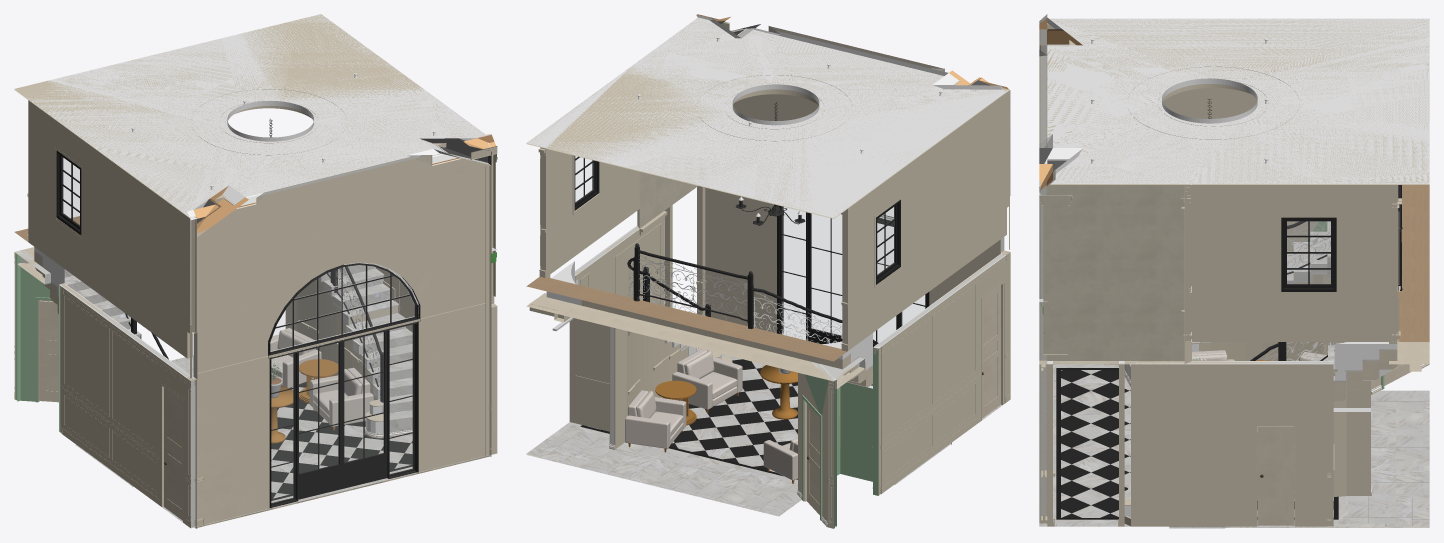
Rendered from entry-f684c350469e.glb.
3 renders of one model, left to right at view 1: azimuth 30°, elevation 25°; view 2: azimuth 150°, elevation 25°; view 3: azimuth 270°, elevation 25°, orthographic. The views are drawn at different scales.
Visible parts, largest first — view 1: entry-9d91b47435c6fb33, entry-4edf3a9420c06709, entry-e8793759323e04f0, entry-698abdfdc6fb970d, entry-9ca48b730e5de4b2, entry-746250f96522f643, entry-85f0fd939e0fcc78, entry-8d5f500af8e4c699, entry-785988ccf932ddd5, entry-969fb0f33943ba89, entry-c4ac463b6a960119, entry-a5eabba2ad6474eb (+18 smaller); view 2: entry-9d91b47435c6fb33, entry-746250f96522f643, entry-e8793759323e04f0, entry-85f0fd939e0fcc78, entry-2575515a05775d9e, entry-d5a4a1b5d3594c04, entry-698abdfdc6fb970d, entry-ba376bd68a22f7f3, entry-c4ac463b6a960119, entry-c51ecd664a3b22a3, entry-8b5649904563319a, entry-6a051330000fbca1 (+28 smaller); view 3: entry-9d91b47435c6fb33, entry-6a051330000fbca1, entry-c51ecd664a3b22a3, entry-e8793759323e04f0, entry-62353aa10fc57f23, entry-c4ac463b6a960119, entry-ba376bd68a22f7f3, entry-2575515a05775d9e, entry-20932135983111ad, entry-489e9ad801b4b62e, entry-80d276f58a4dc5cb, entry-224035c89a69c041 (+19 smaller).
Part boxes in pixels (x1,y1,x2,y2): entry-9d91b47435c6fb33: [14, 14, 485, 218]; entry-4edf3a9420c06709: [195, 150, 491, 372]; entry-e8793759323e04f0: [14, 14, 483, 217]; entry-698abdfdc6fb970d: [269, 322, 418, 508]; entry-9ca48b730e5de4b2: [195, 302, 490, 526]; entry-746250f96522f643: [28, 100, 192, 358]; entry-85f0fd939e0fcc78: [60, 283, 192, 525]; entry-8d5f500af8e4c699: [268, 262, 420, 358]; entry-785988ccf932ddd5: [196, 150, 491, 373]; entry-969fb0f33943ba89: [196, 302, 490, 526]; entry-c4ac463b6a960119: [271, 379, 412, 498]; entry-a5eabba2ad6474eb: [14, 251, 50, 401]; entry-9d91b47435c6fb33: [526, 17, 1008, 218]; entry-746250f96522f643: [842, 92, 1006, 350]; entry-e8793759323e04f0: [528, 18, 1008, 210]; entry-85f0fd939e0fcc78: [873, 253, 1006, 494]; entry-2575515a05775d9e: [526, 275, 851, 381]; entry-d5a4a1b5d3594c04: [706, 188, 1007, 389]; entry-698abdfdc6fb970d: [777, 205, 929, 346]; entry-ba376bd68a22f7f3: [540, 428, 800, 515]; entry-c4ac463b6a960119: [586, 354, 797, 472]; entry-c51ecd664a3b22a3: [540, 147, 639, 277]; entry-8b5649904563319a: [570, 281, 609, 431]; entry-6a051330000fbca1: [569, 219, 663, 421]; entry-9d91b47435c6fb33: [1041, 18, 1429, 184]; entry-6a051330000fbca1: [1131, 361, 1333, 526]; entry-c51ecd664a3b22a3: [1192, 184, 1398, 341]; entry-e8793759323e04f0: [1042, 14, 1429, 183]; entry-62353aa10fc57f23: [1047, 184, 1191, 364]; entry-c4ac463b6a960119: [1061, 370, 1333, 517]; entry-ba376bd68a22f7f3: [1348, 390, 1429, 523]; entry-2575515a05775d9e: [1389, 185, 1429, 364]; entry-20932135983111ad: [1281, 217, 1336, 291]; entry-489e9ad801b4b62e: [1043, 195, 1067, 354]; entry-80d276f58a4dc5cb: [1257, 426, 1294, 525]; entry-224035c89a69c041: [1346, 380, 1370, 495].
Size of the model in its own units: 6.54 by 6.44 by 6.51.
Materials: 48 (9 with a texture image).
